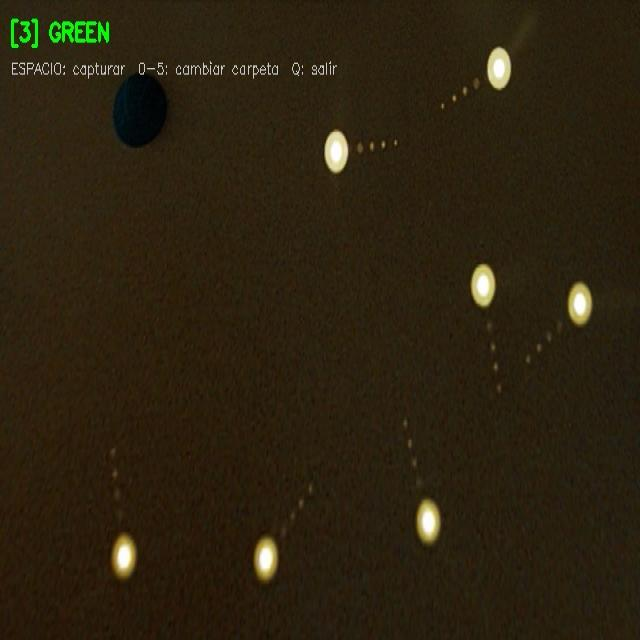green: (112, 68, 168, 150)
